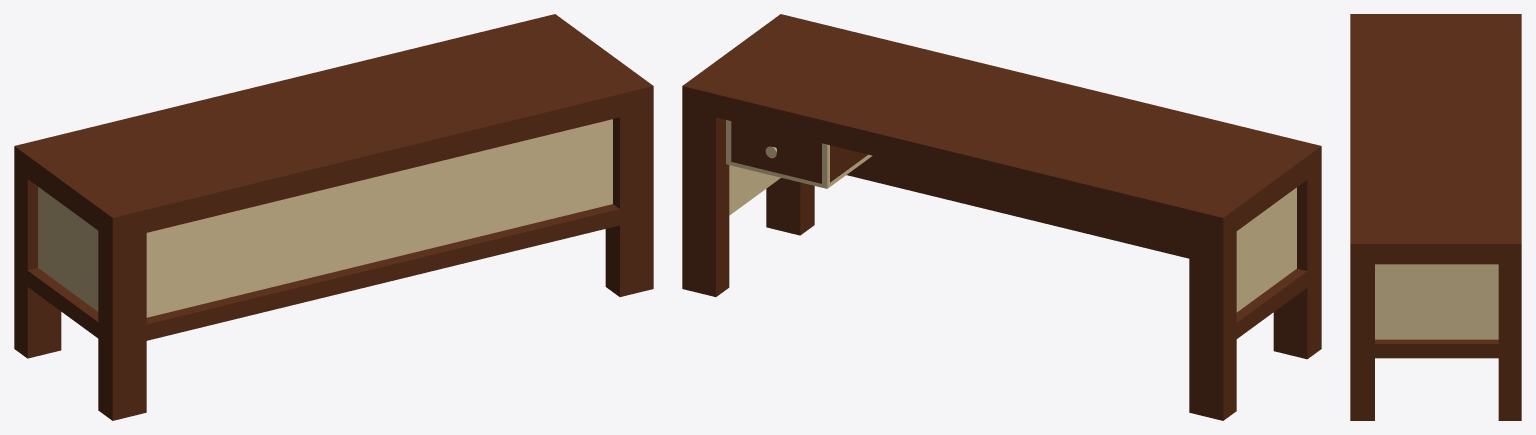
The model's file is Desk_000.glb.
3 views of the same model, side by side, from view 1: azimuth 30°, elevation 25°; view 2: azimuth 150°, elevation 25°; view 3: azimuth 270°, elevation 25° (orthographic). The views are drawn at different scales.
Parts seen in each view (by area): view 1: Desk; view 2: Desk; view 3: Desk.
Part boxes in pixels (left/top/right/bottom): Desk: left=14, top=14, right=653, bottom=420; Desk: left=682, top=14, right=1321, bottom=420; Desk: left=1350, top=14, right=1521, bottom=420.
Bounding box in the file's own units: 1.91 × 0.6853 × 0.6022.
